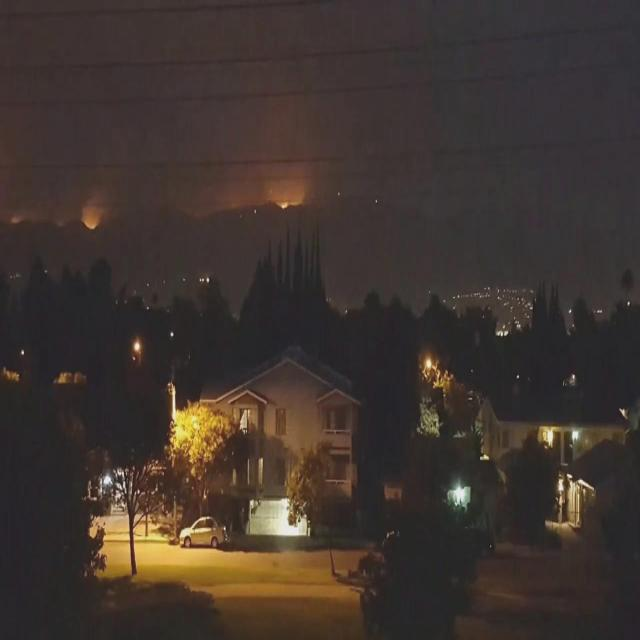Fire: (275, 198, 303, 211), (81, 218, 99, 232)
